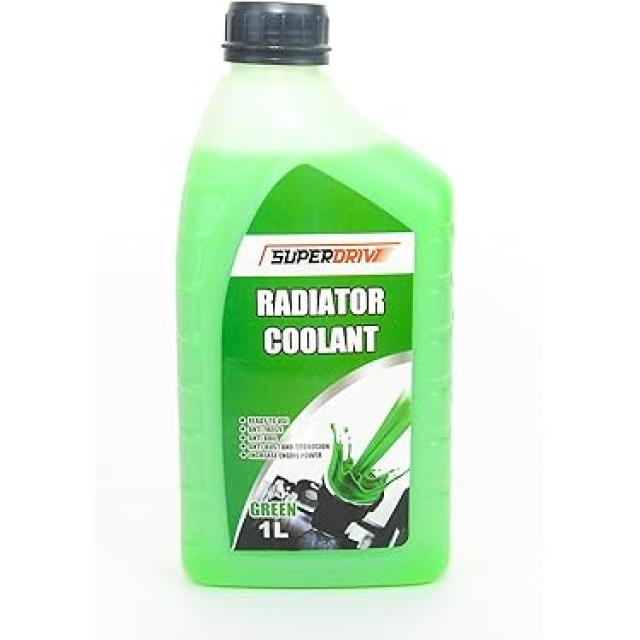coolant: (155, 0, 459, 603)
